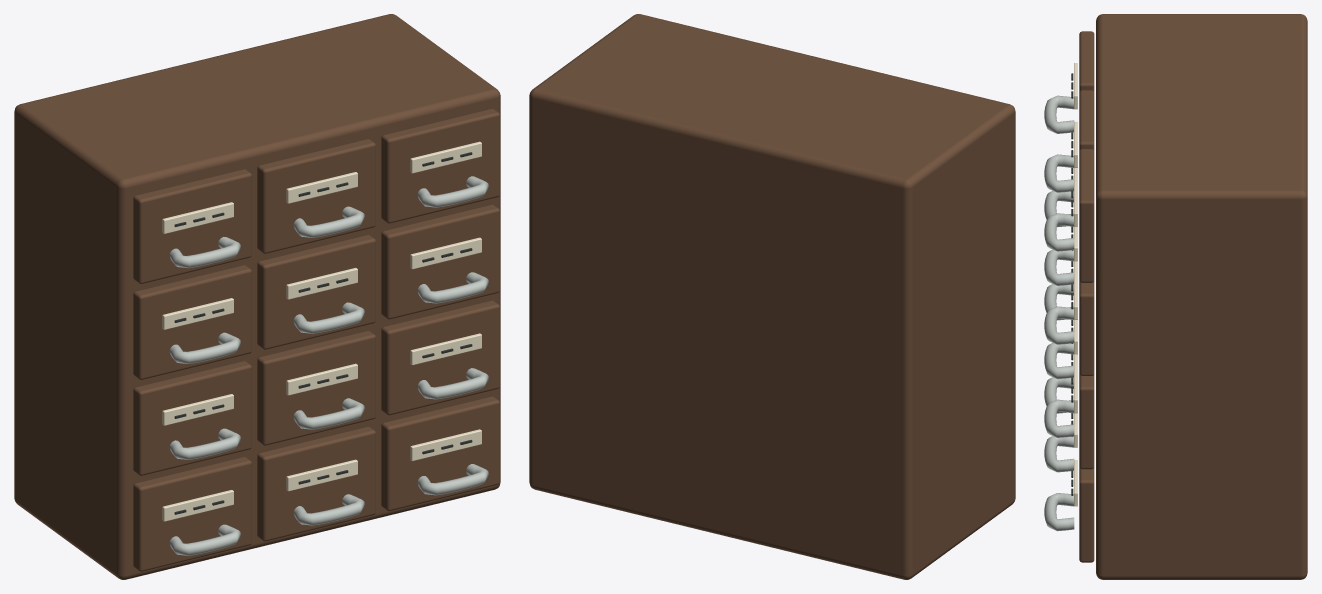
File: abandoned-telephone-exchange-component-sorting-drawers-d35f7b70__32016.glb
3 renders of one model, left to right at view 1: azimuth 30°, elevation 25°; view 2: azimuth 150°, elevation 25°; view 3: azimuth 270°, elevation 25°, orthographic. The views are drawn at different scales.
Visible parts, largest first — view 1: component-sorting-drawers; view 2: component-sorting-drawers; view 3: component-sorting-drawers.
Part boxes in pixels (<box>): component-sorting-drawers: <box>14,14,500,579</box>; component-sorting-drawers: <box>529,14,1015,579</box>; component-sorting-drawers: <box>1044,14,1307,579</box>.
Bounding box in the file's own units: 0.71 × 0.71 × 0.4354.
